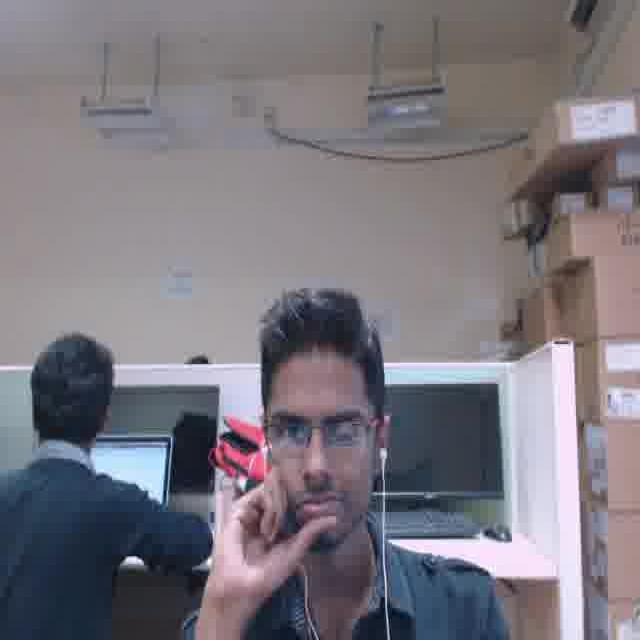Boredom: (264, 360, 370, 543)
